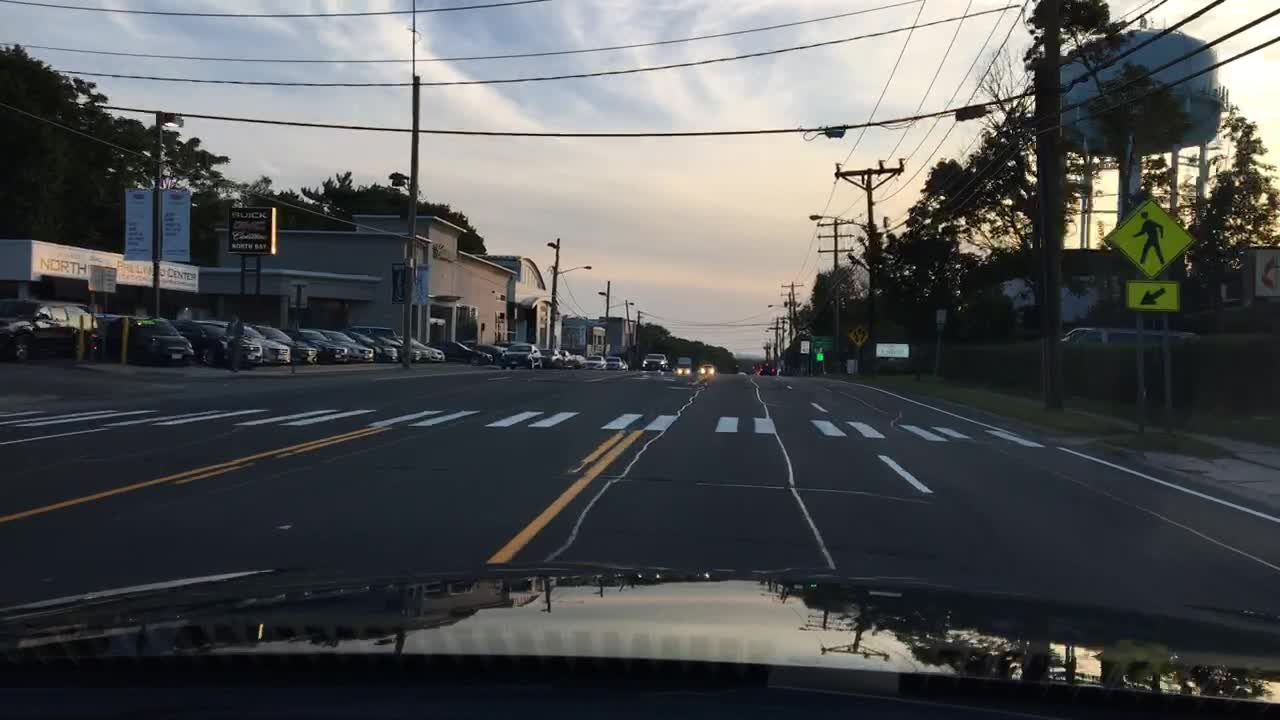car: (0, 298, 95, 362), (170, 318, 263, 363), (104, 315, 194, 361), (206, 319, 288, 363), (251, 323, 317, 364), (1060, 326, 1199, 344), (278, 326, 347, 359), (320, 328, 375, 361), (425, 340, 493, 363), (397, 334, 447, 362), (352, 331, 398, 359), (499, 342, 539, 369), (378, 337, 420, 360), (348, 323, 397, 338), (470, 343, 506, 359), (642, 353, 668, 371), (540, 347, 562, 366), (583, 353, 605, 371), (605, 356, 630, 369), (758, 362, 778, 375), (567, 355, 584, 369), (699, 363, 716, 374), (560, 350, 570, 364), (738, 371, 746, 374)
person: (219, 309, 243, 372)
traffic sign: (1100, 199, 1198, 278), (1127, 281, 1181, 312), (1253, 252, 1277, 298), (874, 341, 910, 357), (849, 325, 868, 347), (812, 335, 835, 351), (935, 308, 947, 325), (801, 340, 809, 352)
truck: (676, 356, 691, 374)
